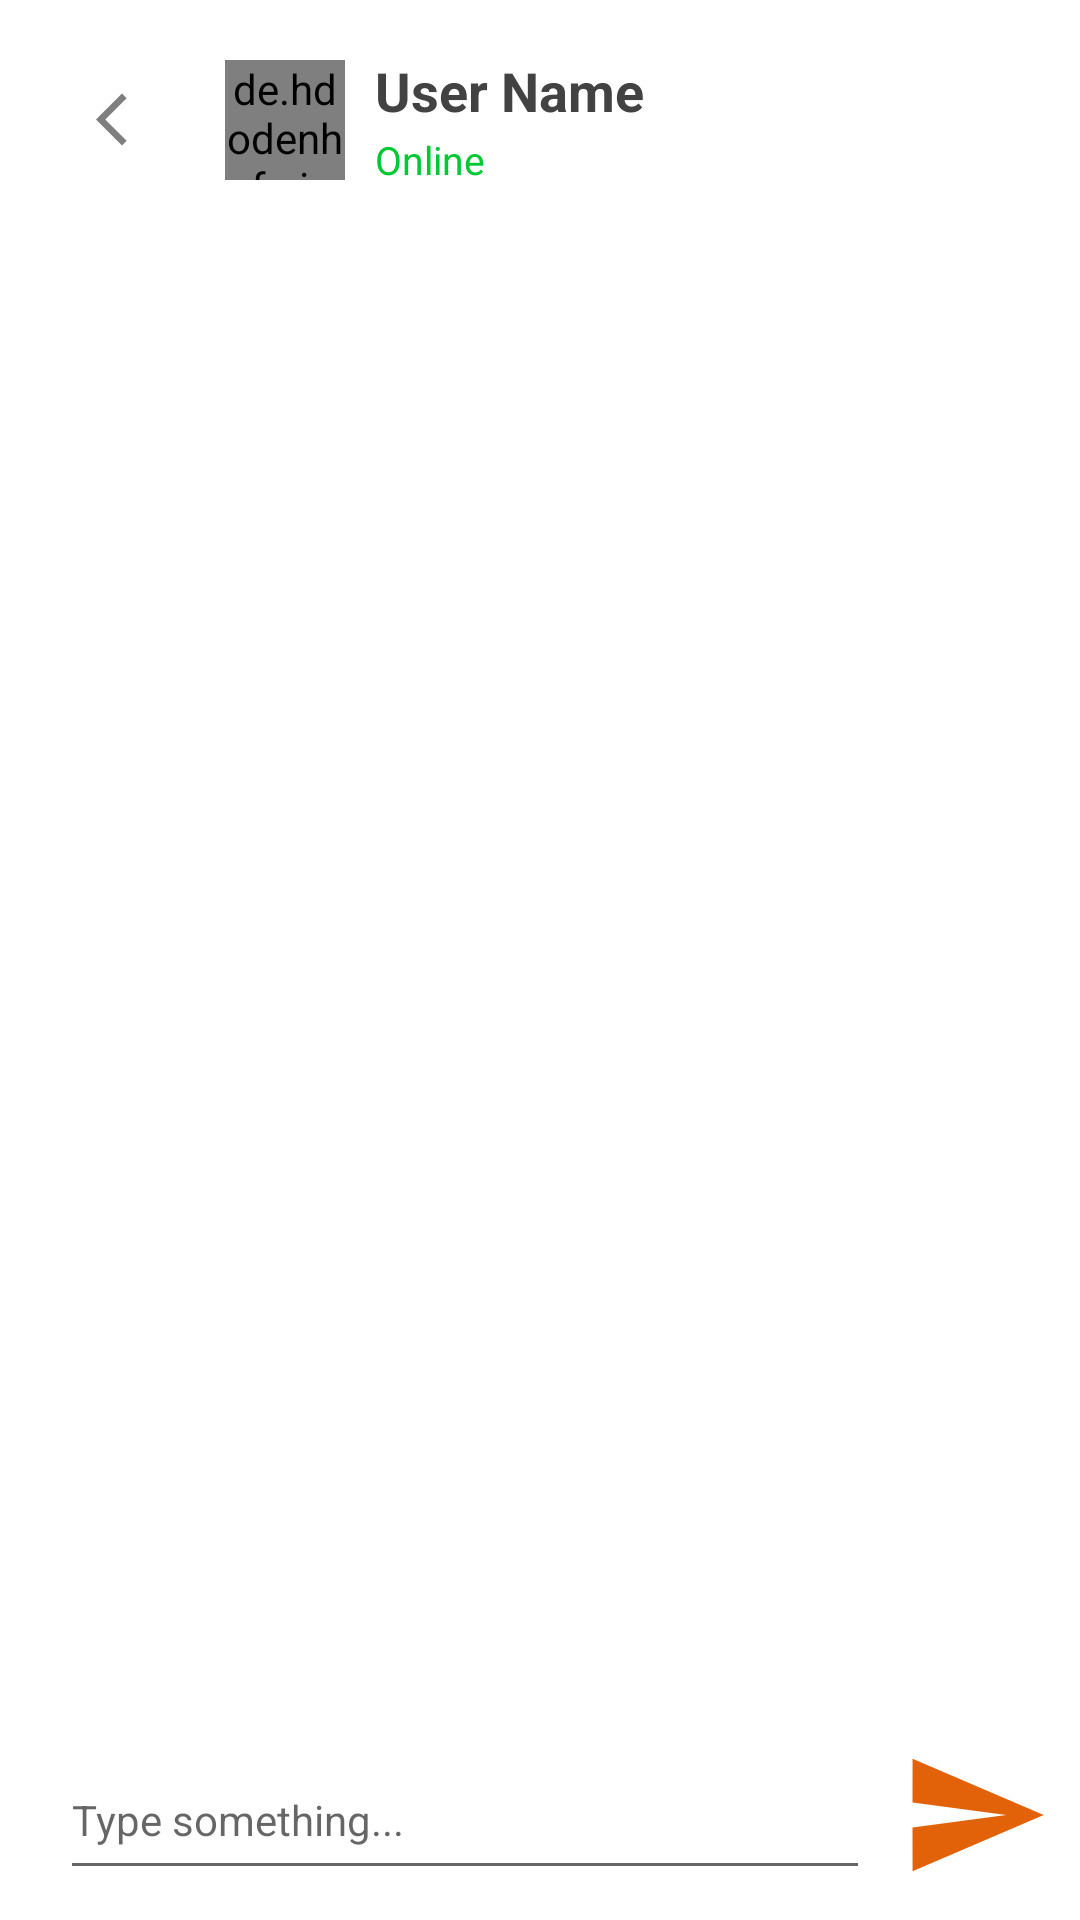

Where to tap for icons on this 1080w x 1920h app screen, as (x,y):
back: (111,119)
send: (978,1815)
